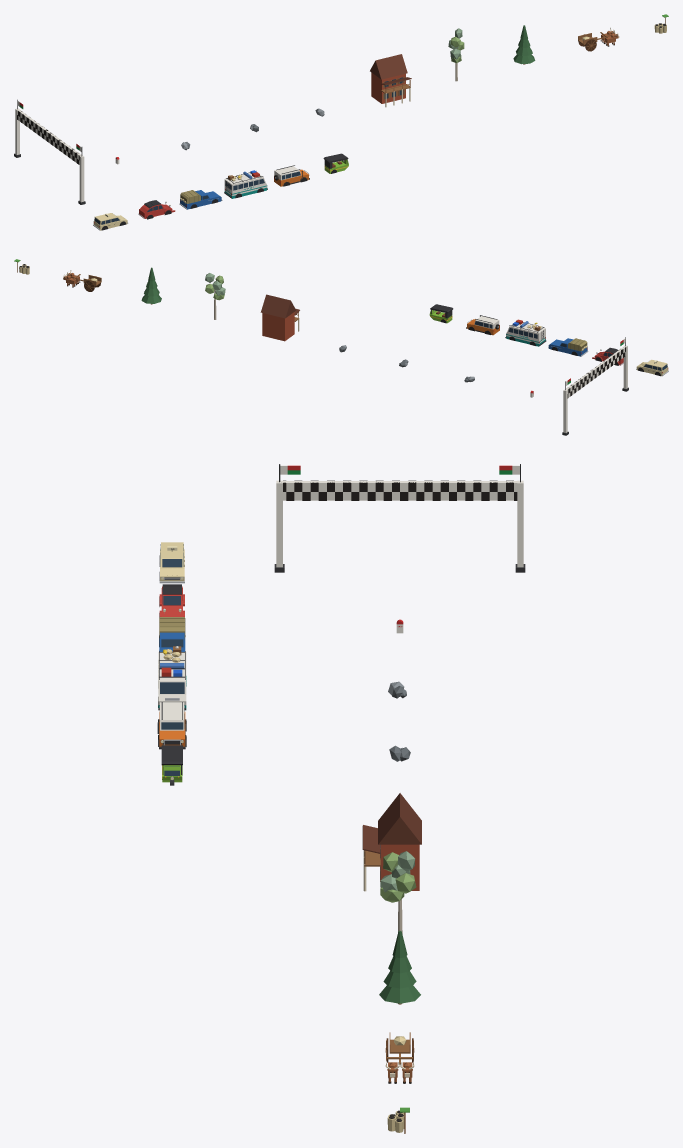
File: kalesa.glb
The picture shows the model from 3 angles, top to bottom: view 1: azimuth 30°, elevation 25°; view 2: azimuth 150°, elevation 25°; view 3: azimuth 270°, elevation 25°; orthographic projection. The views are drawn at different scales.
Visible parts, largest first — view 1: house_merina, finish_arch, car_brousse, car_bachee, car_karenjy, sarety, pine, car_deuche, car_taxi4l, eucalyptus, car_bajaj; view 2: house_merina, finish_arch, car_brousse, car_bachee, car_karenjy, eucalyptus, sarety, pine, car_taxi4l, car_bajaj; view 3: finish_arch, house_merina, car_brousse, eucalyptus, pine, car_karenjy, car_taxi4l, sarety.
Part boxes in pixels (<box>): house_merina: <box>370,54,411,107</box>; finish_arch: <box>14,99,85,204</box>; car_brousse: <box>224,170,267,198</box>; car_bachee: <box>179,190,222,209</box>; car_karenjy: <box>274,165,309,186</box>; sarety: <box>578,27,619,51</box>; pine: <box>513,25,535,64</box>; car_deuche: <box>138,200,175,219</box>; car_taxi4l: <box>93,213,128,230</box>; eucalyptus: <box>448,28,464,81</box>; car_bajaj: <box>323,153,348,173</box>; house_merina: <box>260,294,299,341</box>; finish_arch: <box>562,337,628,435</box>; car_brousse: <box>505,319,546,346</box>; car_bachee: <box>548,338,588,356</box>; car_karenjy: <box>466,315,499,335</box>; eucalyptus: <box>205,273,225,319</box>; sarety: <box>63,270,101,291</box>; pine: <box>141,267,161,304</box>; car_taxi4l: <box>636,359,668,376</box>; car_bajaj: <box>429,304,453,323</box>; finish_arch: <box>274,464,525,572</box>; house_merina: <box>362,793,421,891</box>; car_brousse: <box>158,646,186,710</box>; eucalyptus: <box>380,851,416,934</box>; pine: <box>379,931,420,1004</box>; car_karenjy: <box>157,702,186,749</box>; car_taxi4l: <box>159,542,184,583</box>; sarety: <box>385,1032,414,1083</box>.
Bounding box in the file's own units: 84.08 × 7.45 × 22.6.
